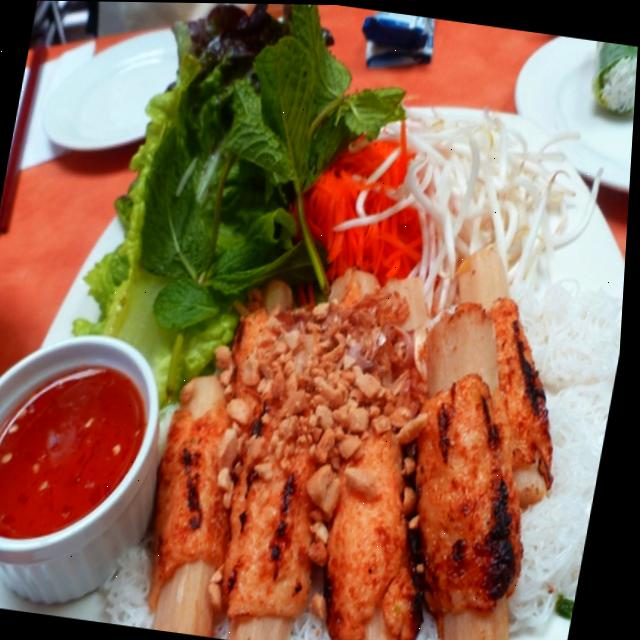炸货点心: (0, 35, 638, 640)
熟制海鲜: (0, 35, 638, 640)
